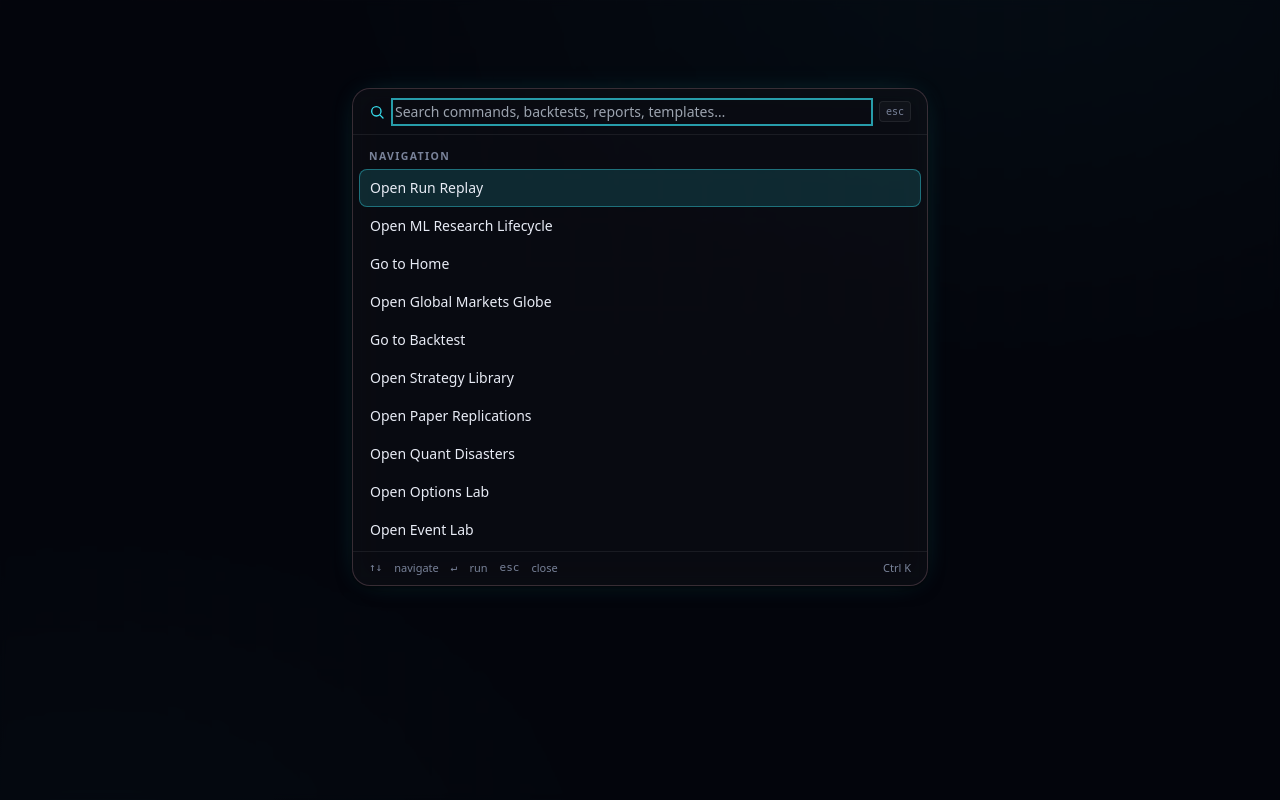
Scenario: CommandPalette › finds a workspace by its canonical command title
The image size is (1280, 800).
Type "Signal Ensemble" into the field with placeholder "Search commands, backtests, reports, templates…" at (632, 112), box [395,102,869,122]
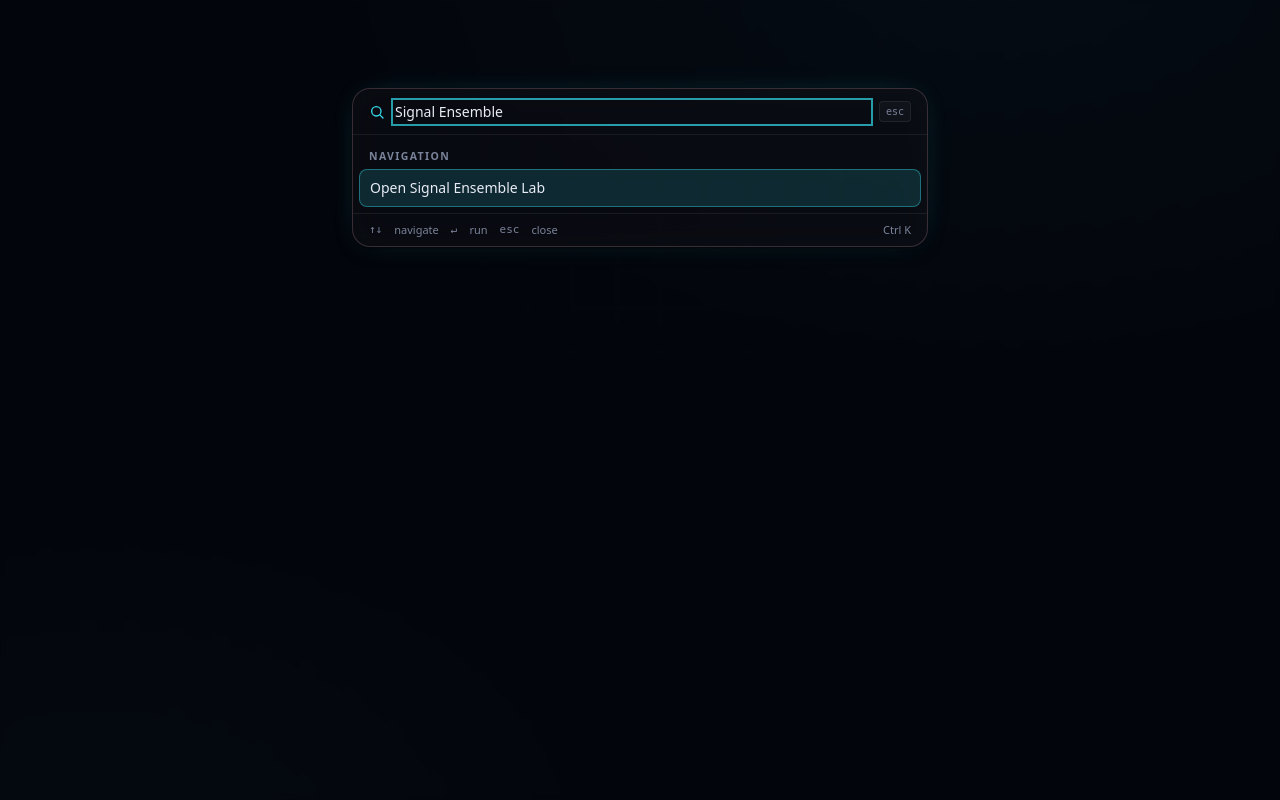
Result: the button "Open Signal Ensemble Lab" is shown at [359,169,921,207]
